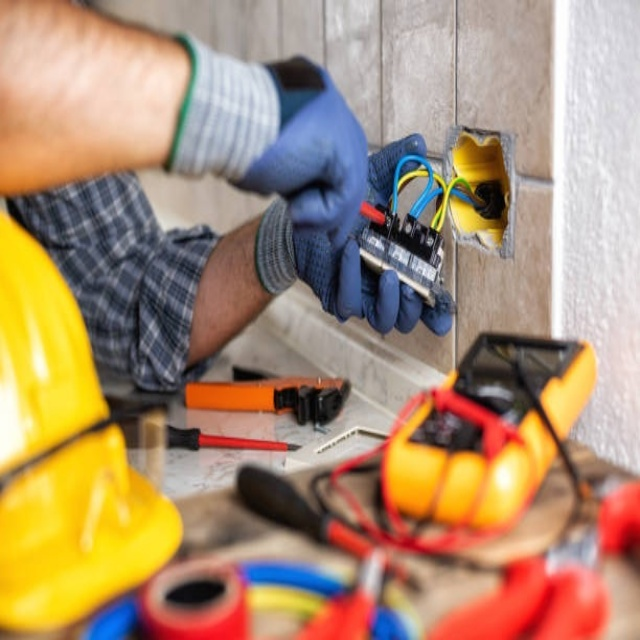Guantes: (164, 16, 371, 253), (261, 127, 453, 338)
